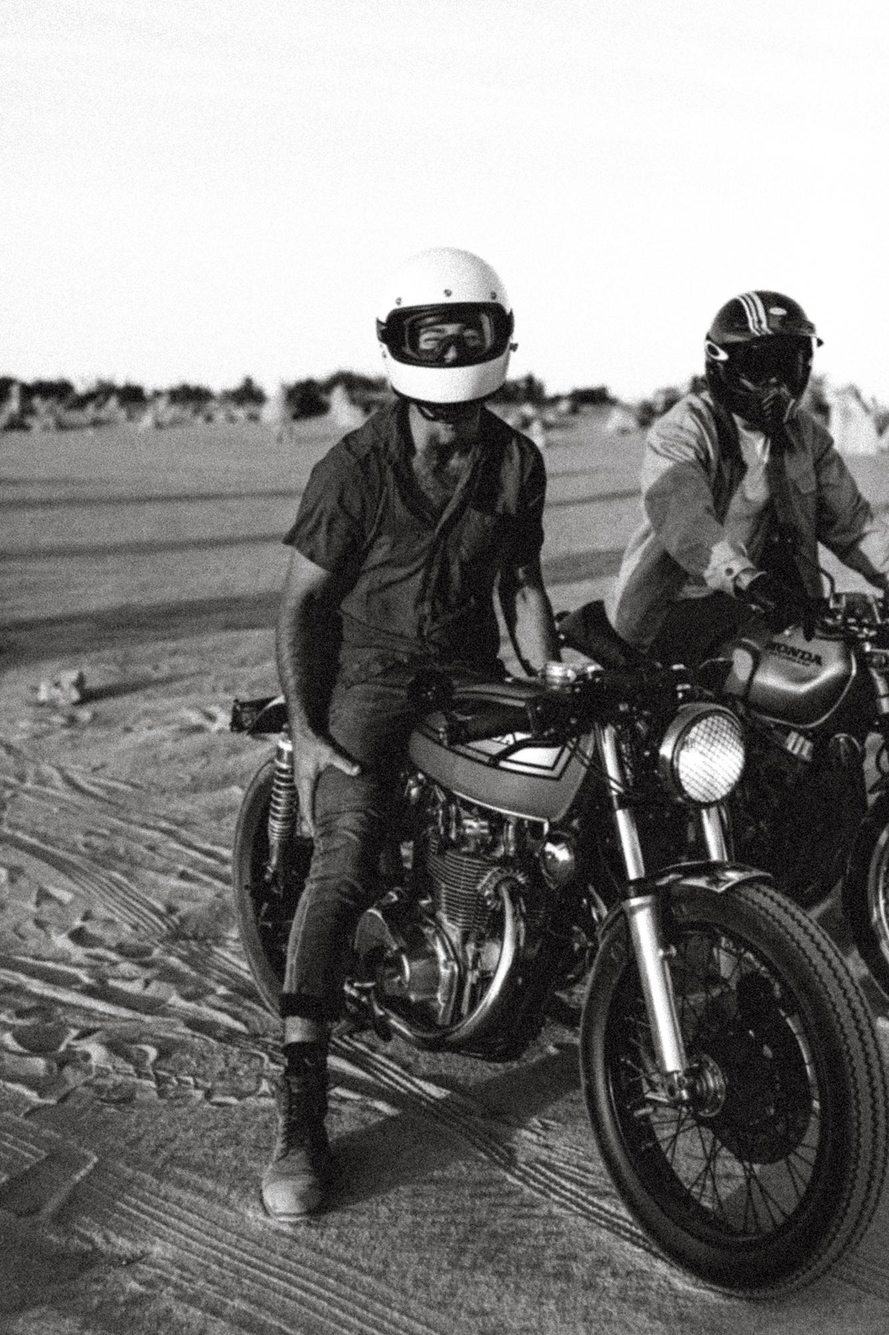helmet: (374, 245, 520, 426), (703, 288, 826, 438)
